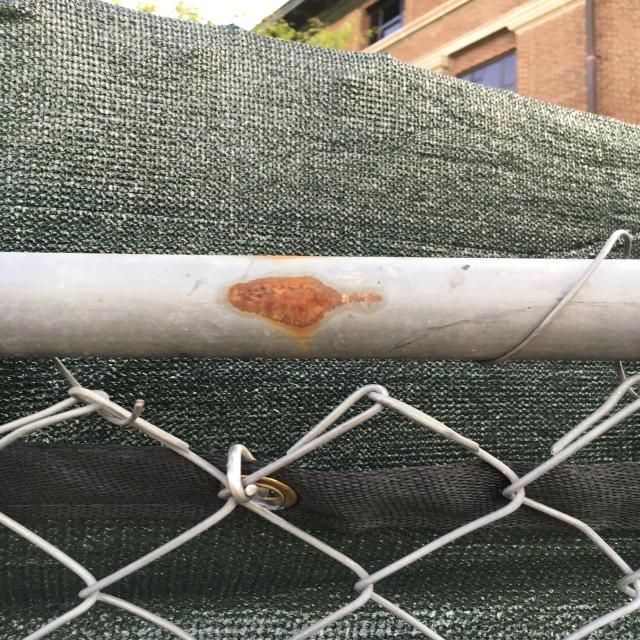corrosion: (227, 274, 384, 328)
